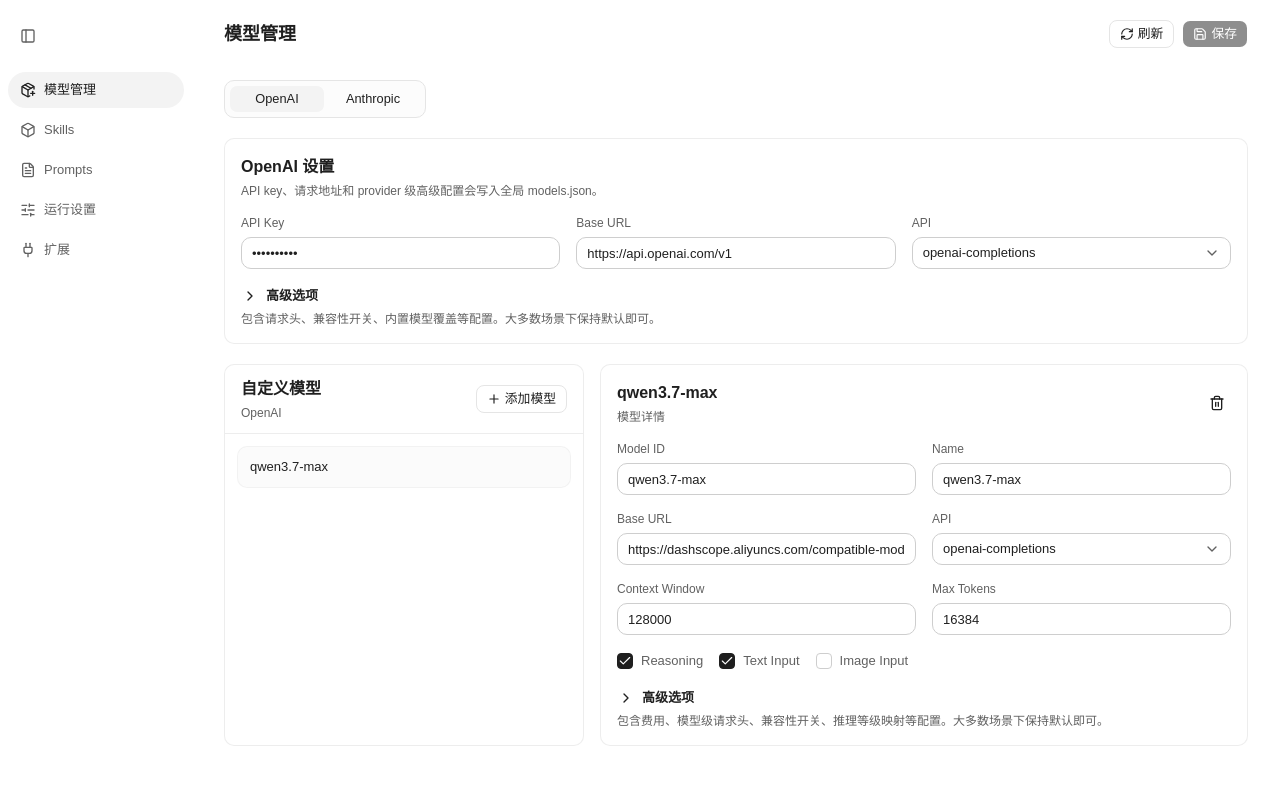
it: SettingsApp › saves only skills settings from the Skills tab
Click the button "Skills". click: click(96, 130)
box: [8,112,184,148]
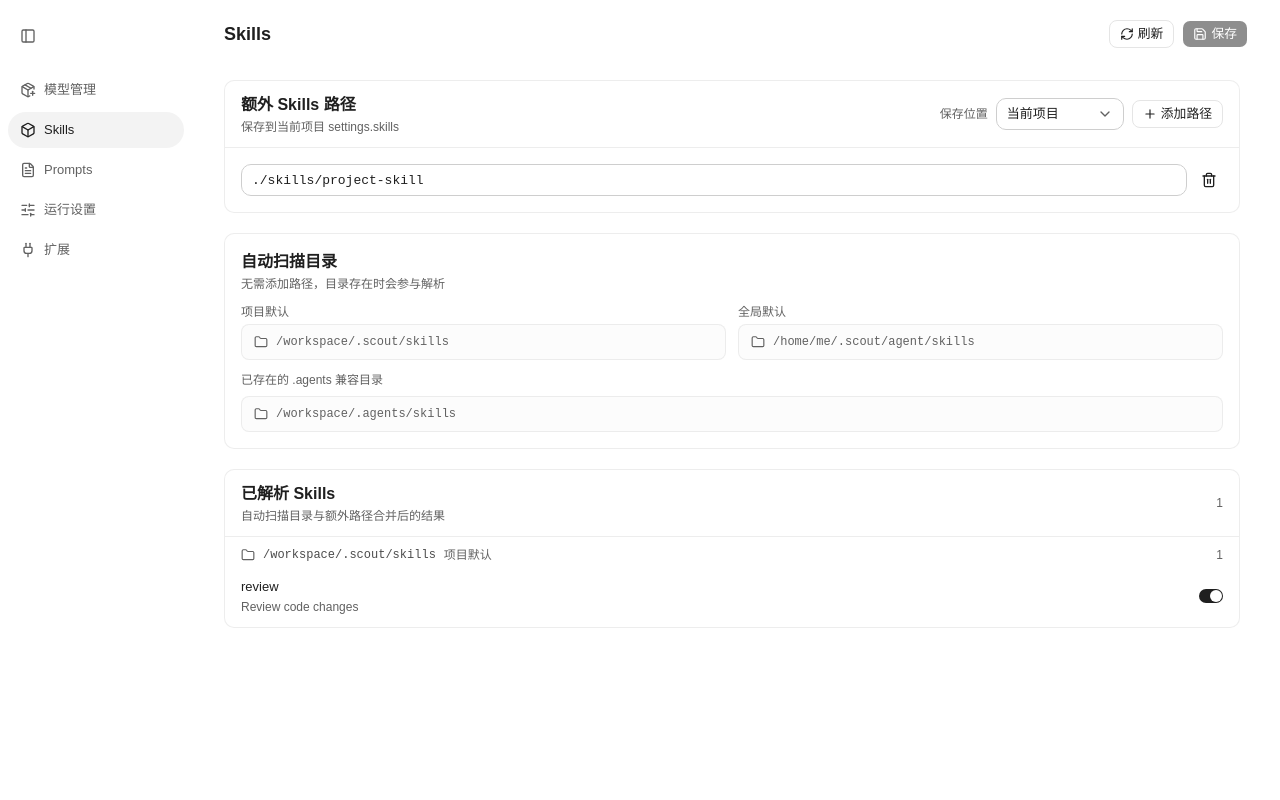
Now the heading "额外 Skills 路径" is shown, box [241,96,356,113]
Now the text "Review code changes" is shown, box [241,600,358,614]
Replace the text in the field named "Skill path 1" with "./skills/review". click: (714, 180)
box: [241,164,1187,196]
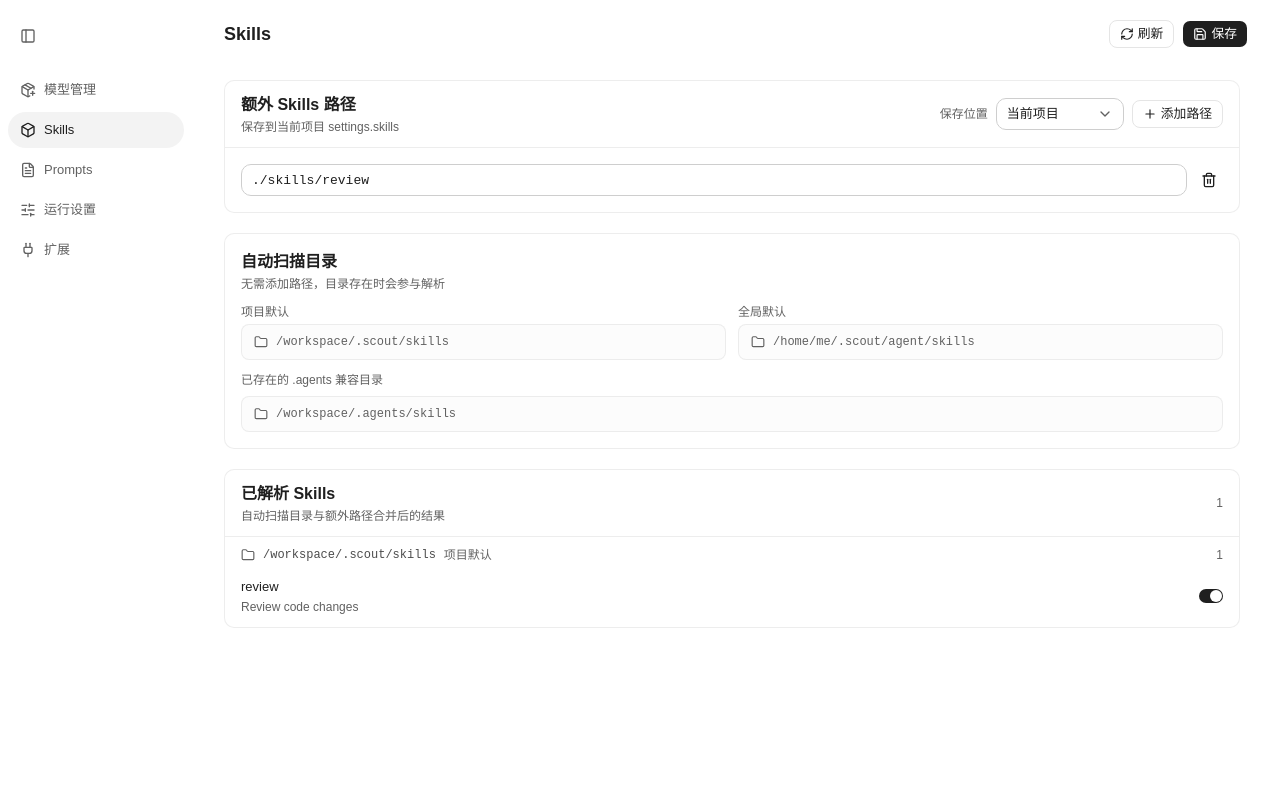
Click the button "保存". click: click(1215, 34)
box: [1182,20,1248,48]
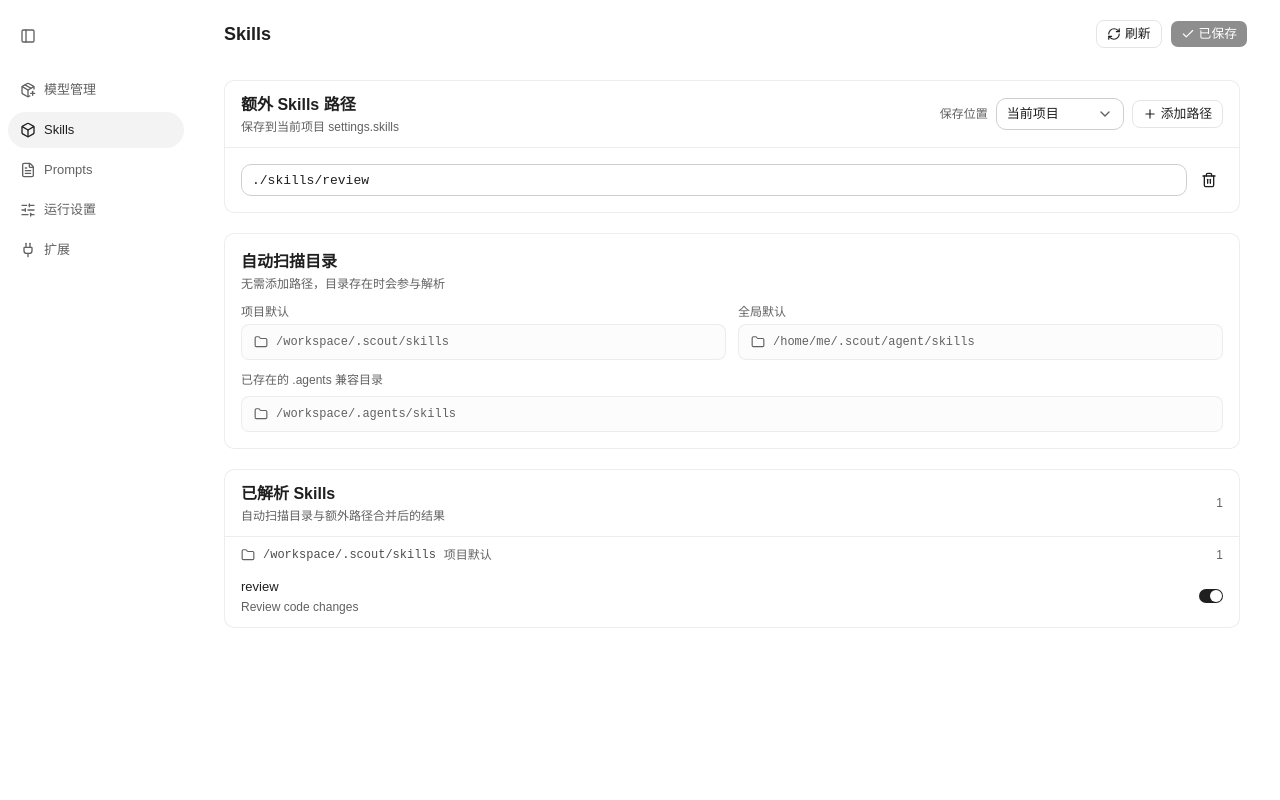
Now the button "已保存" is disabled, box [1170,20,1248,48]
